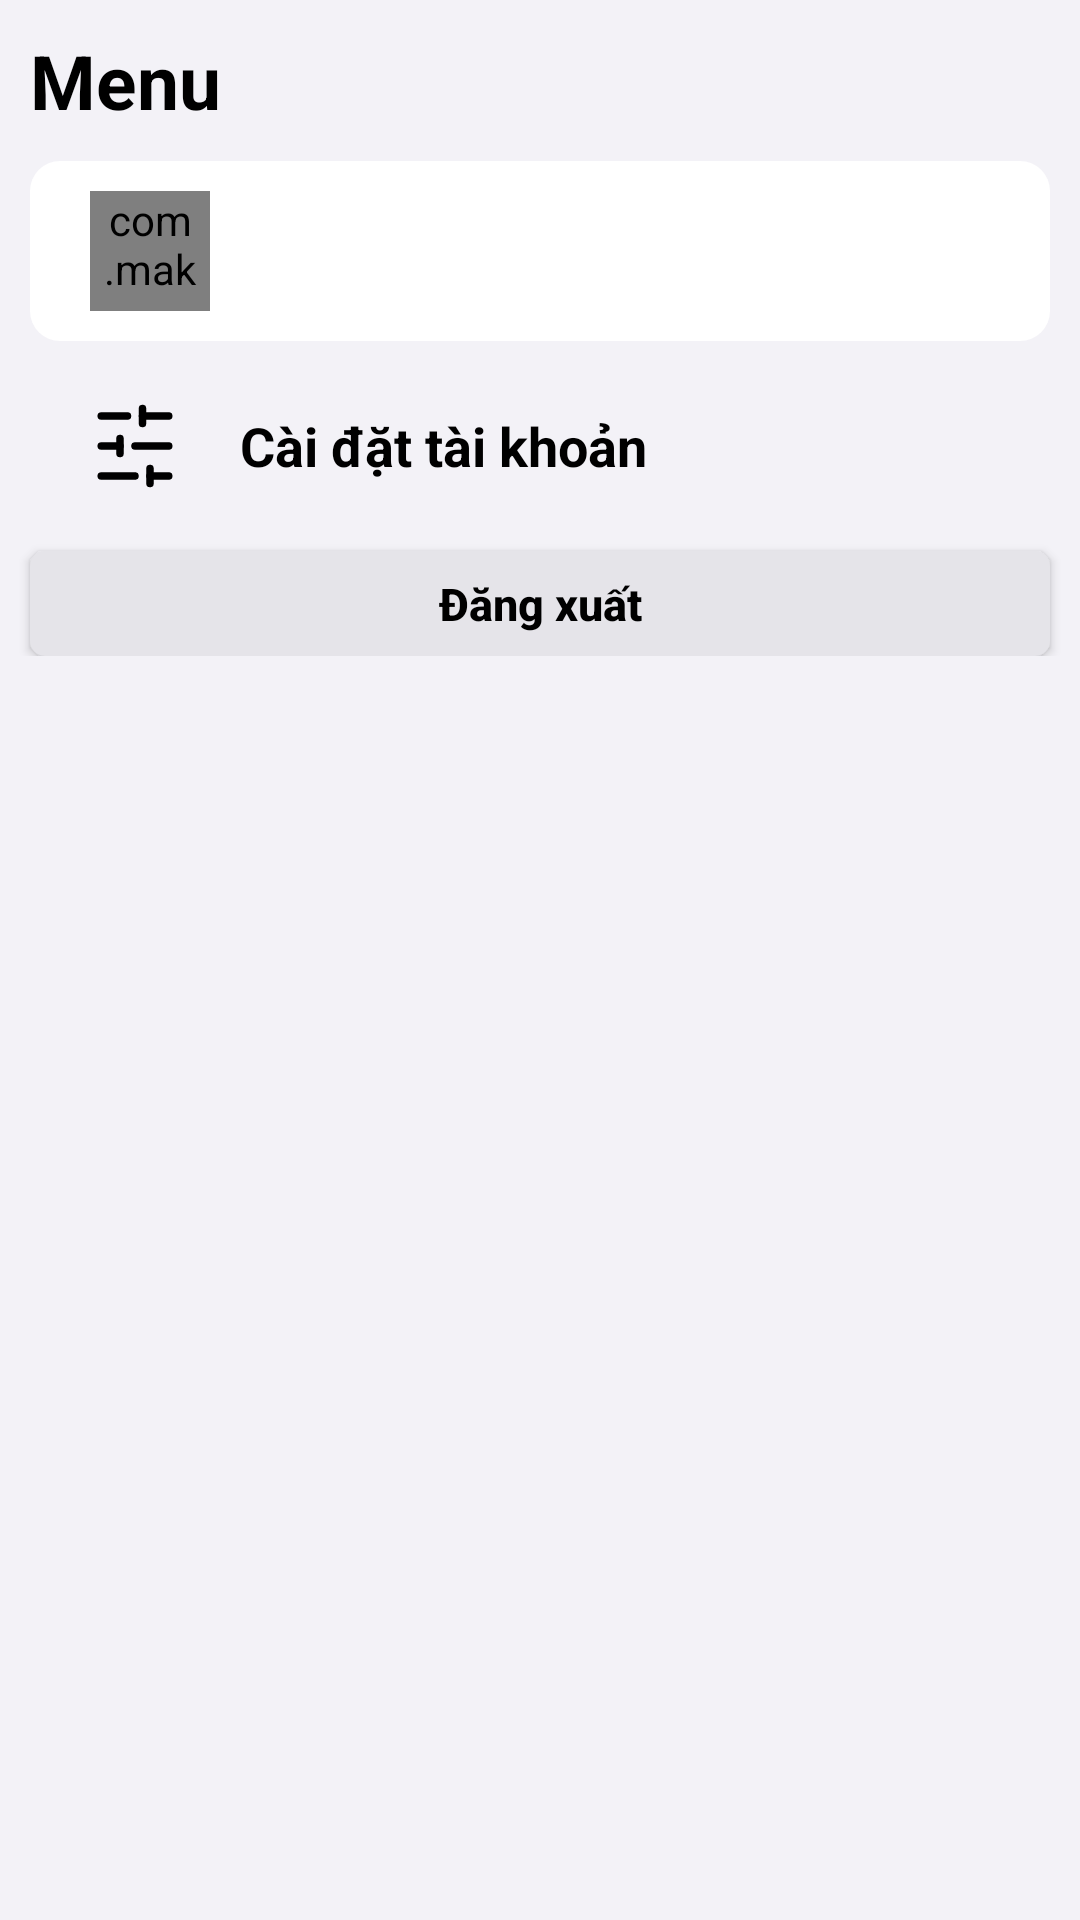

Icons on this 1080×1920 Android screen, each with its box as (x1, y1, x2, y2):
setting: (97, 404, 173, 488)
